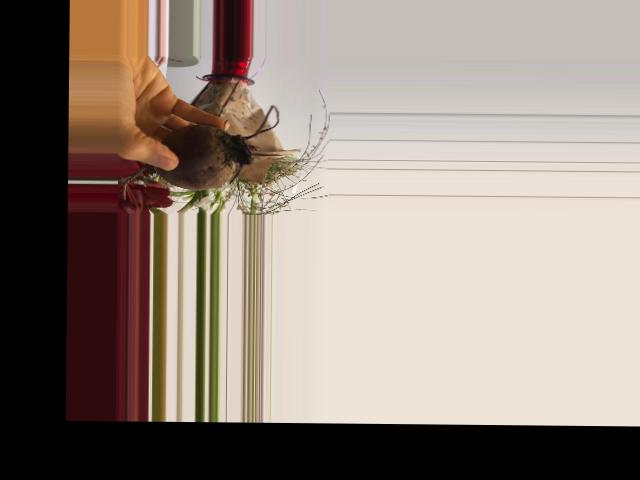beet: (123, 103, 280, 200)
